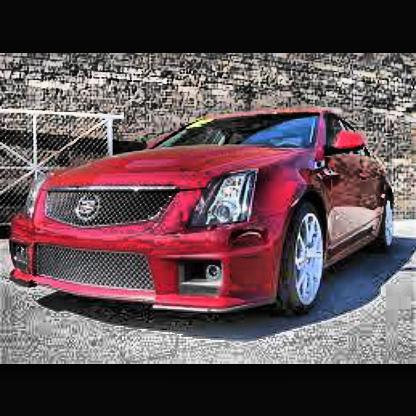Cadillac CTS-V Sedan 2012: (11, 103, 398, 334)
